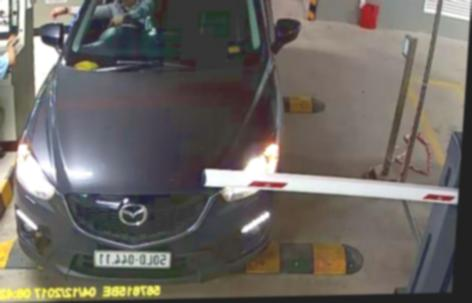License_Plate: (94, 247, 170, 269)
